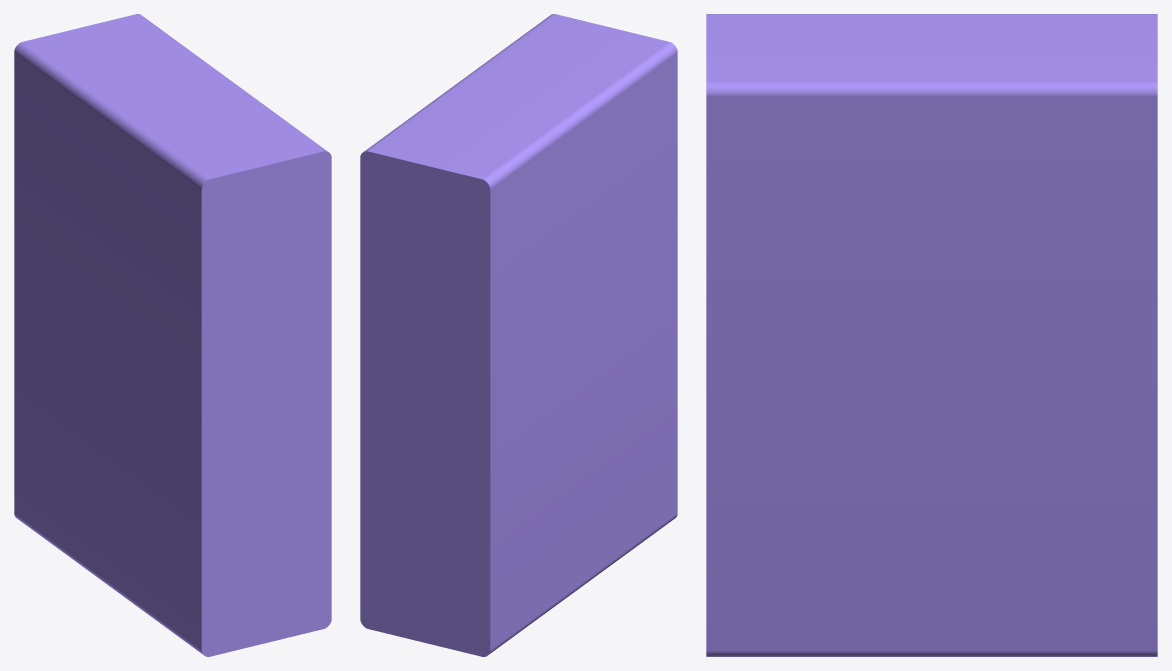
3 renders of one model, left to right at view 1: azimuth 30°, elevation 25°; view 2: azimuth 150°, elevation 25°; view 3: azimuth 270°, elevation 25°, orthographic. The views are drawn at different scales.
Size of the model in its own units: 0.0064 by 0.0225 by 0.016.
